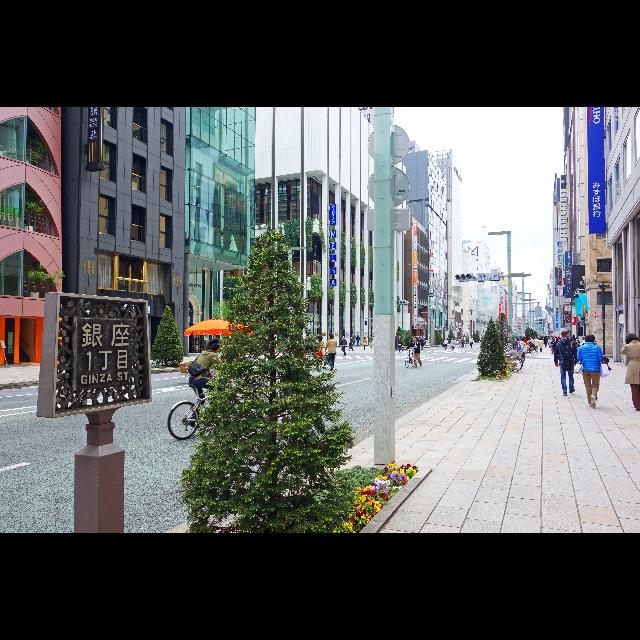head: (626, 332, 638, 343), (210, 344, 220, 356), (585, 335, 595, 343), (561, 332, 569, 338), (318, 335, 322, 341), (330, 334, 334, 340), (413, 338, 417, 342), (521, 338, 525, 342), (556, 338, 560, 342), (342, 336, 346, 339), (522, 336, 526, 339), (350, 337, 352, 339), (354, 335, 356, 337), (364, 337, 366, 339), (370, 336, 372, 338), (398, 337, 400, 339), (421, 338, 423, 340), (419, 336, 421, 338), (413, 334, 415, 336), (445, 338, 447, 340), (452, 338, 454, 340), (463, 338, 465, 340), (470, 337, 472, 339), (530, 341, 532, 343), (530, 338, 532, 340), (535, 337, 537, 339), (541, 338, 543, 340), (540, 336, 542, 338), (576, 338, 578, 340), (573, 335, 575, 337), (553, 339, 555, 341), (552, 338, 554, 340), (549, 338, 551, 340), (551, 336, 553, 338), (548, 337, 550, 338), (457, 337, 458, 338), (358, 335, 358, 337), (426, 341, 426, 342), (427, 336, 428, 336), (422, 336, 423, 336), (418, 337, 418, 338), (414, 336, 414, 338), (460, 338, 460, 339), (514, 338, 514, 340), (518, 338, 518, 338), (544, 338, 544, 338), (546, 337, 546, 338)
person: (187, 337, 236, 429), (573, 334, 613, 408), (553, 331, 579, 397), (403, 337, 422, 369), (324, 334, 338, 372), (312, 334, 324, 370), (516, 338, 528, 364), (340, 336, 348, 356), (522, 336, 530, 354), (526, 336, 534, 354), (554, 338, 560, 360), (398, 336, 404, 354), (449, 338, 456, 352), (362, 336, 368, 352), (533, 337, 539, 353), (574, 338, 580, 354), (570, 335, 576, 351), (551, 339, 557, 355), (348, 337, 354, 351), (538, 338, 544, 352), (528, 340, 536, 350), (368, 336, 374, 348), (420, 338, 426, 350), (468, 337, 474, 349), (512, 338, 518, 350), (549, 338, 555, 350), (538, 337, 544, 348), (460, 338, 466, 348), (444, 338, 448, 352), (548, 337, 552, 351), (352, 335, 356, 347), (356, 335, 360, 347), (544, 337, 548, 348), (418, 336, 422, 346), (458, 338, 462, 348), (543, 338, 547, 348), (550, 336, 554, 346), (421, 336, 425, 344), (412, 335, 416, 343), (412, 336, 416, 344), (516, 337, 520, 345), (416, 336, 419, 346), (548, 336, 550, 346), (426, 336, 428, 344), (424, 340, 426, 346), (456, 336, 458, 342)
